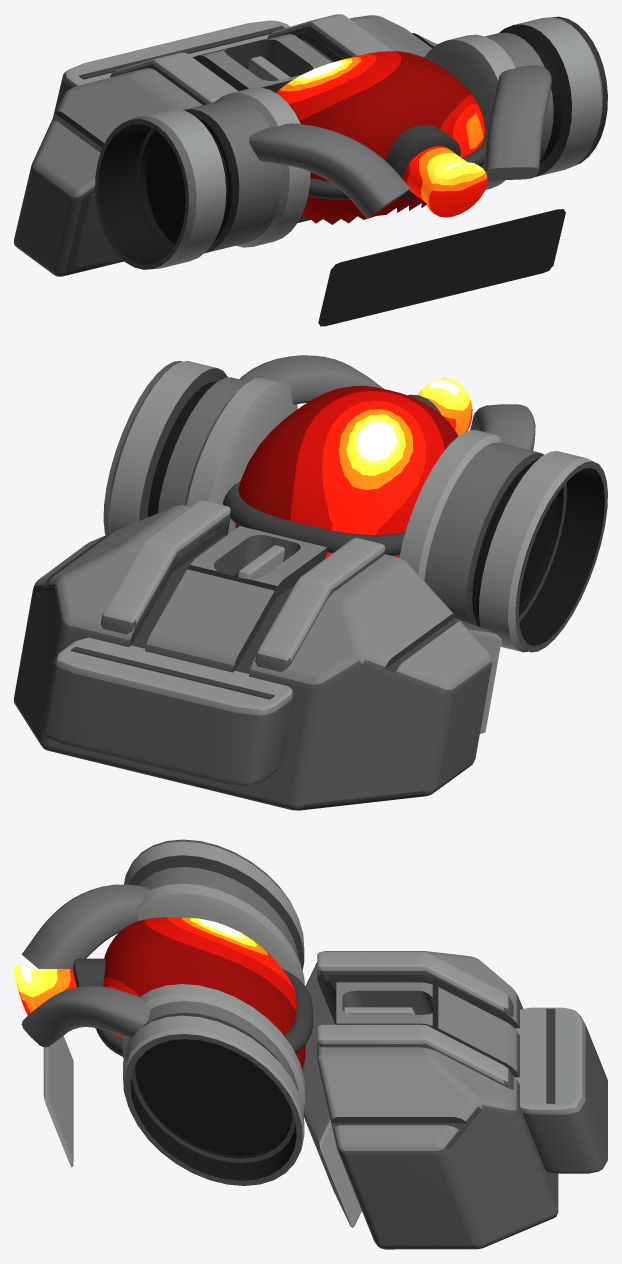
Rendered from pincer_core_top_155.glb.
The picture shows the model from 3 angles, top to bottom: view 1: azimuth 30°, elevation 25°; view 2: azimuth 150°, elevation 25°; view 3: azimuth 270°, elevation 25°; orthographic projection. The views are drawn at different scales.
Parts seen in each view (by area): view 1: pincer_core_top_155; view 2: pincer_core_top_155; view 3: pincer_core_top_155.
Part boxes in pixels (x1,y1,x2,y2): pincer_core_top_155: [14, 14, 607, 326]; pincer_core_top_155: [14, 355, 607, 810]; pincer_core_top_155: [14, 839, 607, 1249].
Size of the model in its own units: 24 by 13.3 by 30.99.
